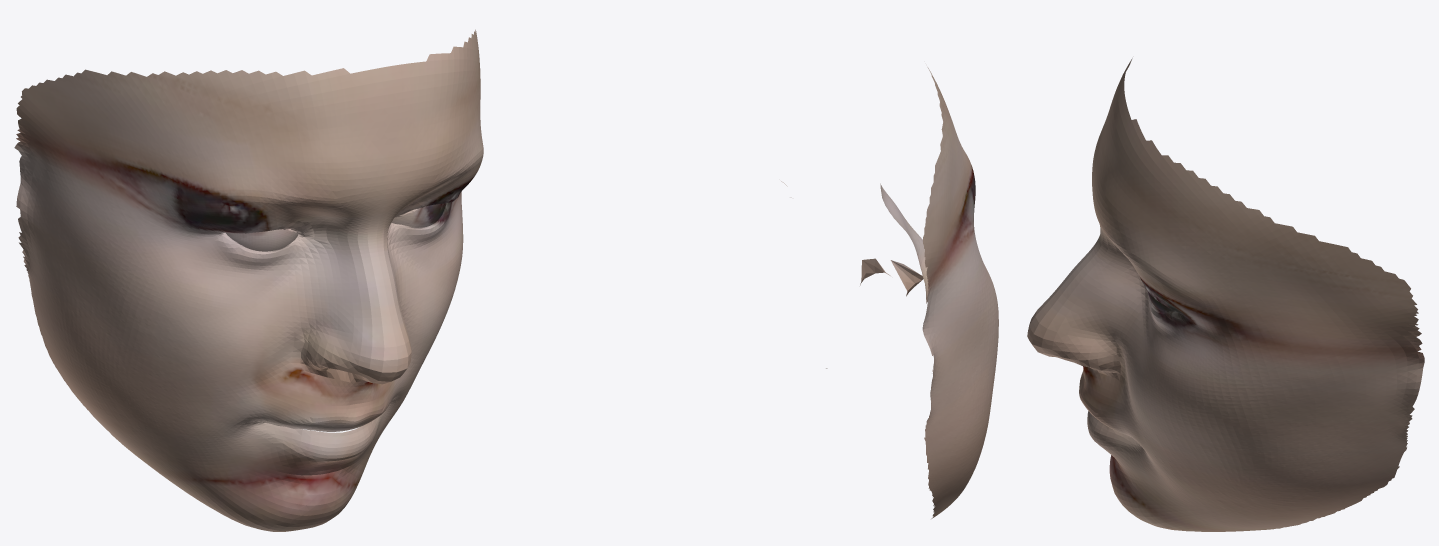
3 views of the same model, side by side, from view 1: azimuth 30°, elevation 25°; view 2: azimuth 150°, elevation 25°; view 3: azimuth 270°, elevation 25° (orthographic).
Parts seen in each view (by area): view 1: geometry_0; view 2: geometry_0; view 3: geometry_0.
Part boxes in pixels (x1,y1,x2,y2): geometry_0: [14, 29, 483, 531]; geometry_0: [781, 67, 998, 518]; geometry_0: [1027, 58, 1424, 531].
Size of the model in its own units: 2.28 by 2.46 by 1.89.
